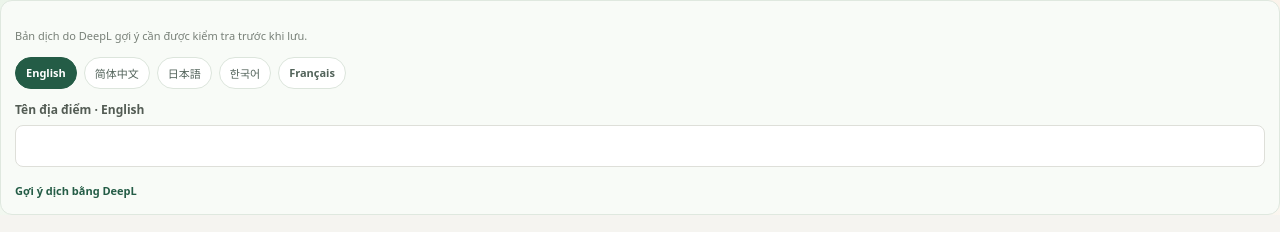
Test case: admin translation suggestions › requests a DeepL suggestion and returns it for review
Click the button "Gợi ý dịch bằng DeepL".
click(76, 190)  # box [15,181,137,200]
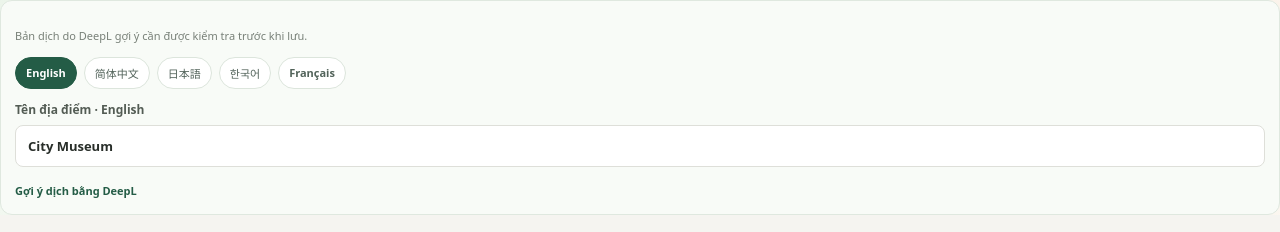
Expected: the field showing "City Museum" is shown, [15,125,1265,167]
